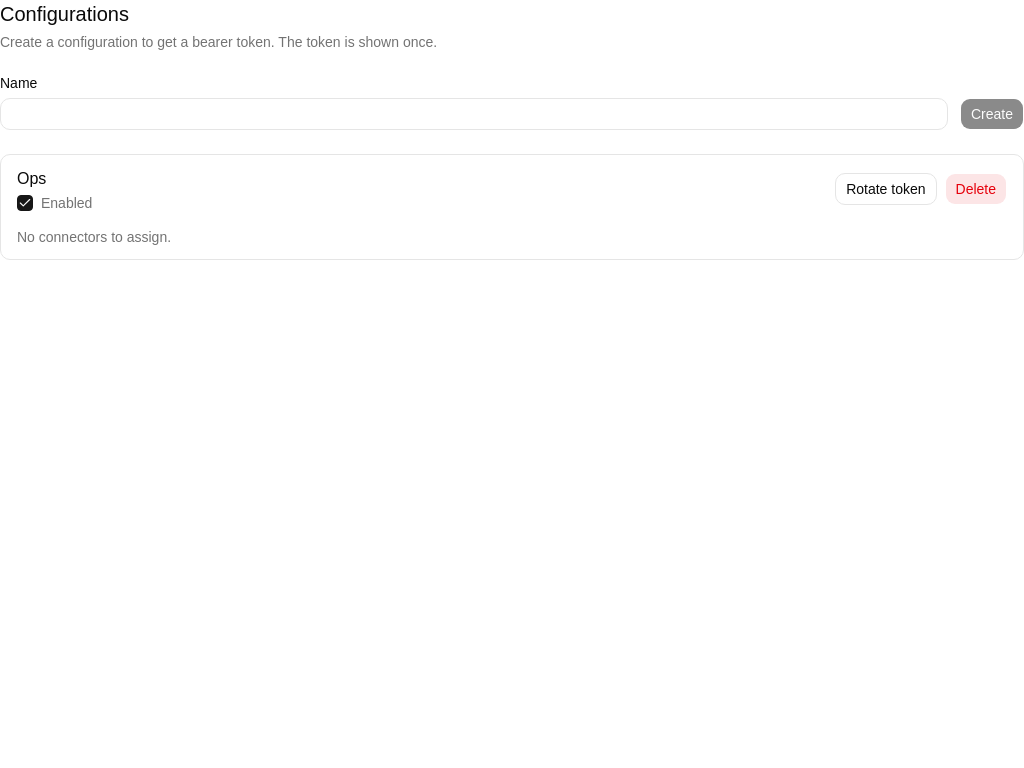
Test: admin-configurations-ui: Confirm before rotate and delete › Delete requires confirmation then removes the row
Expected: the text "Ops" is shown, left=17, top=170, right=46, bottom=187
Click the button "Delete" at (976,189), box left=944, top=173, right=1007, bottom=205
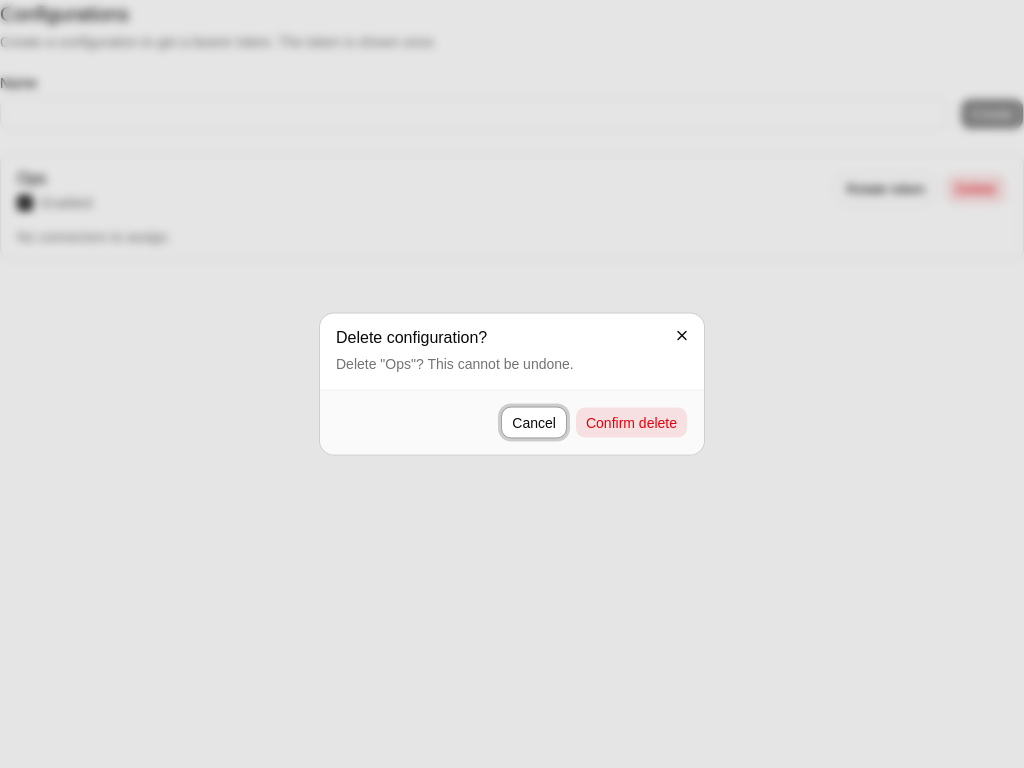
Result: the dialog "Delete configuration?" is shown at left=320, top=314, right=704, bottom=454
Click the button "Confirm delete" at (632,422), box left=575, top=406, right=688, bottom=438
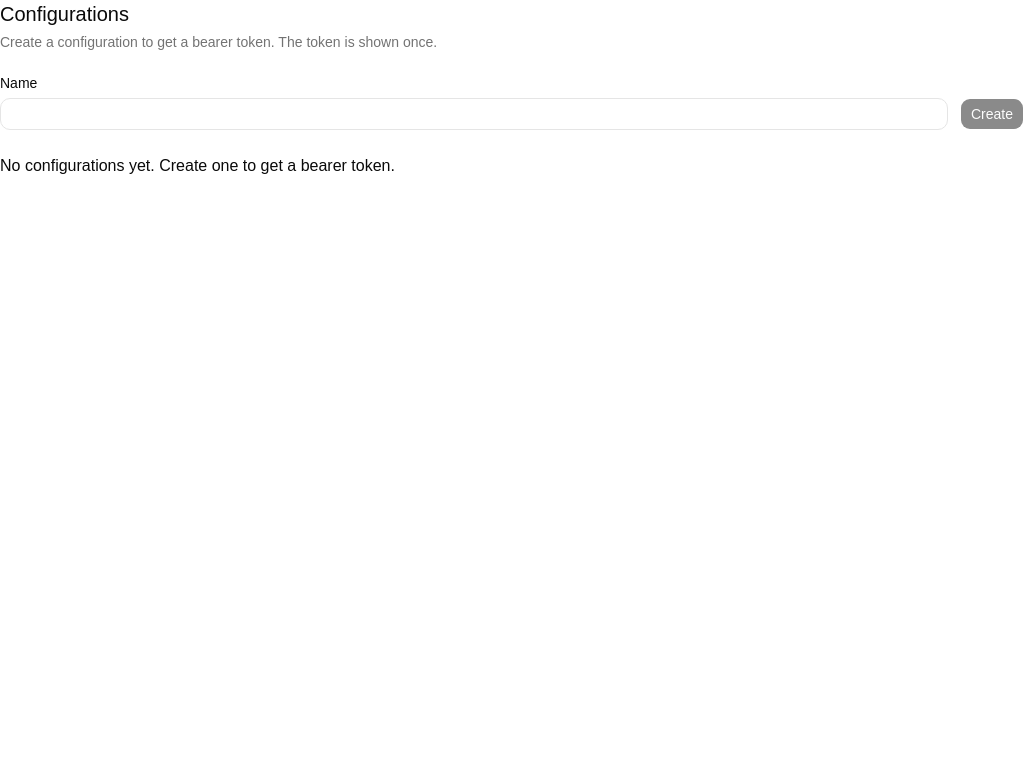
Result: the text "No configurations yet. Create one to get a bearer token." is shown at left=0, top=157, right=395, bottom=174
Result: the text "Ops" is gone
